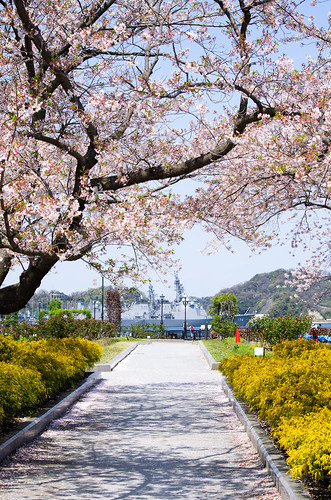tree: (14, 1, 331, 309)
vegetation: (234, 340, 331, 500), (1, 332, 88, 483)
